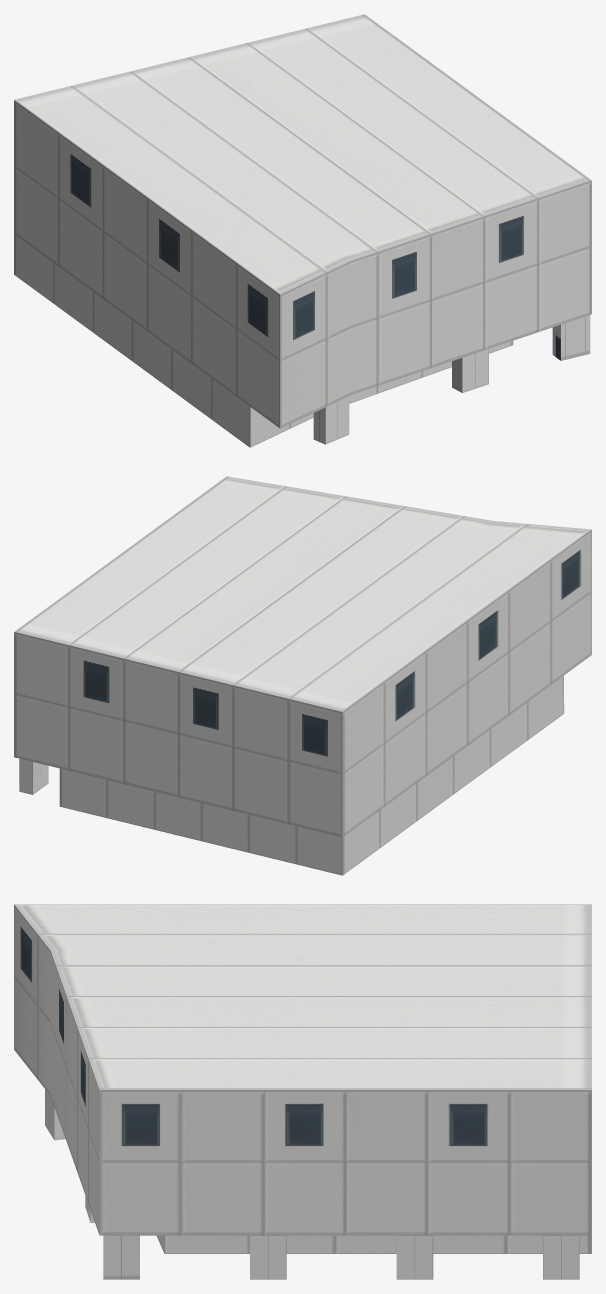
Rendered from Building_01.fbx.
3 renders of one model, top to bottom at view 1: azimuth 30°, elevation 25°; view 2: azimuth 150°, elevation 25°; view 3: azimuth 270°, elevation 25°, orthographic. The views are drawn at different scales.
Parts seen in each view (by area): view 1: polySurface42; view 2: polySurface42; view 3: polySurface42.
Part boxes in pixels (x1,y1,x2,y2): polySurface42: [14, 14, 591, 447]; polySurface42: [14, 476, 591, 875]; polySurface42: [14, 904, 591, 1279].
Bounding box in the file's own units: 3603 × 1714 × 4731.
